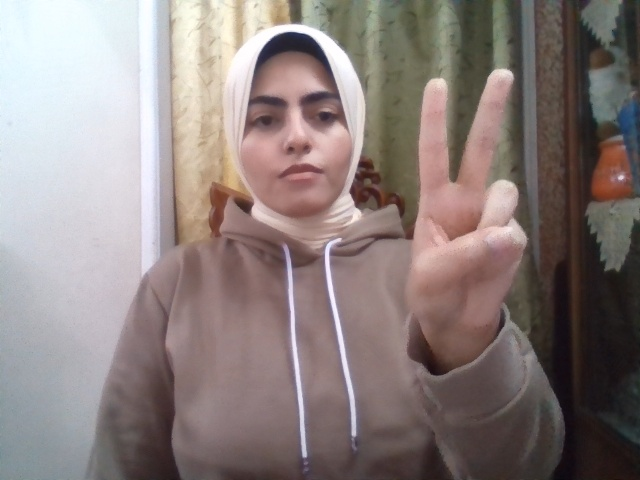V: (405, 69, 527, 333)
